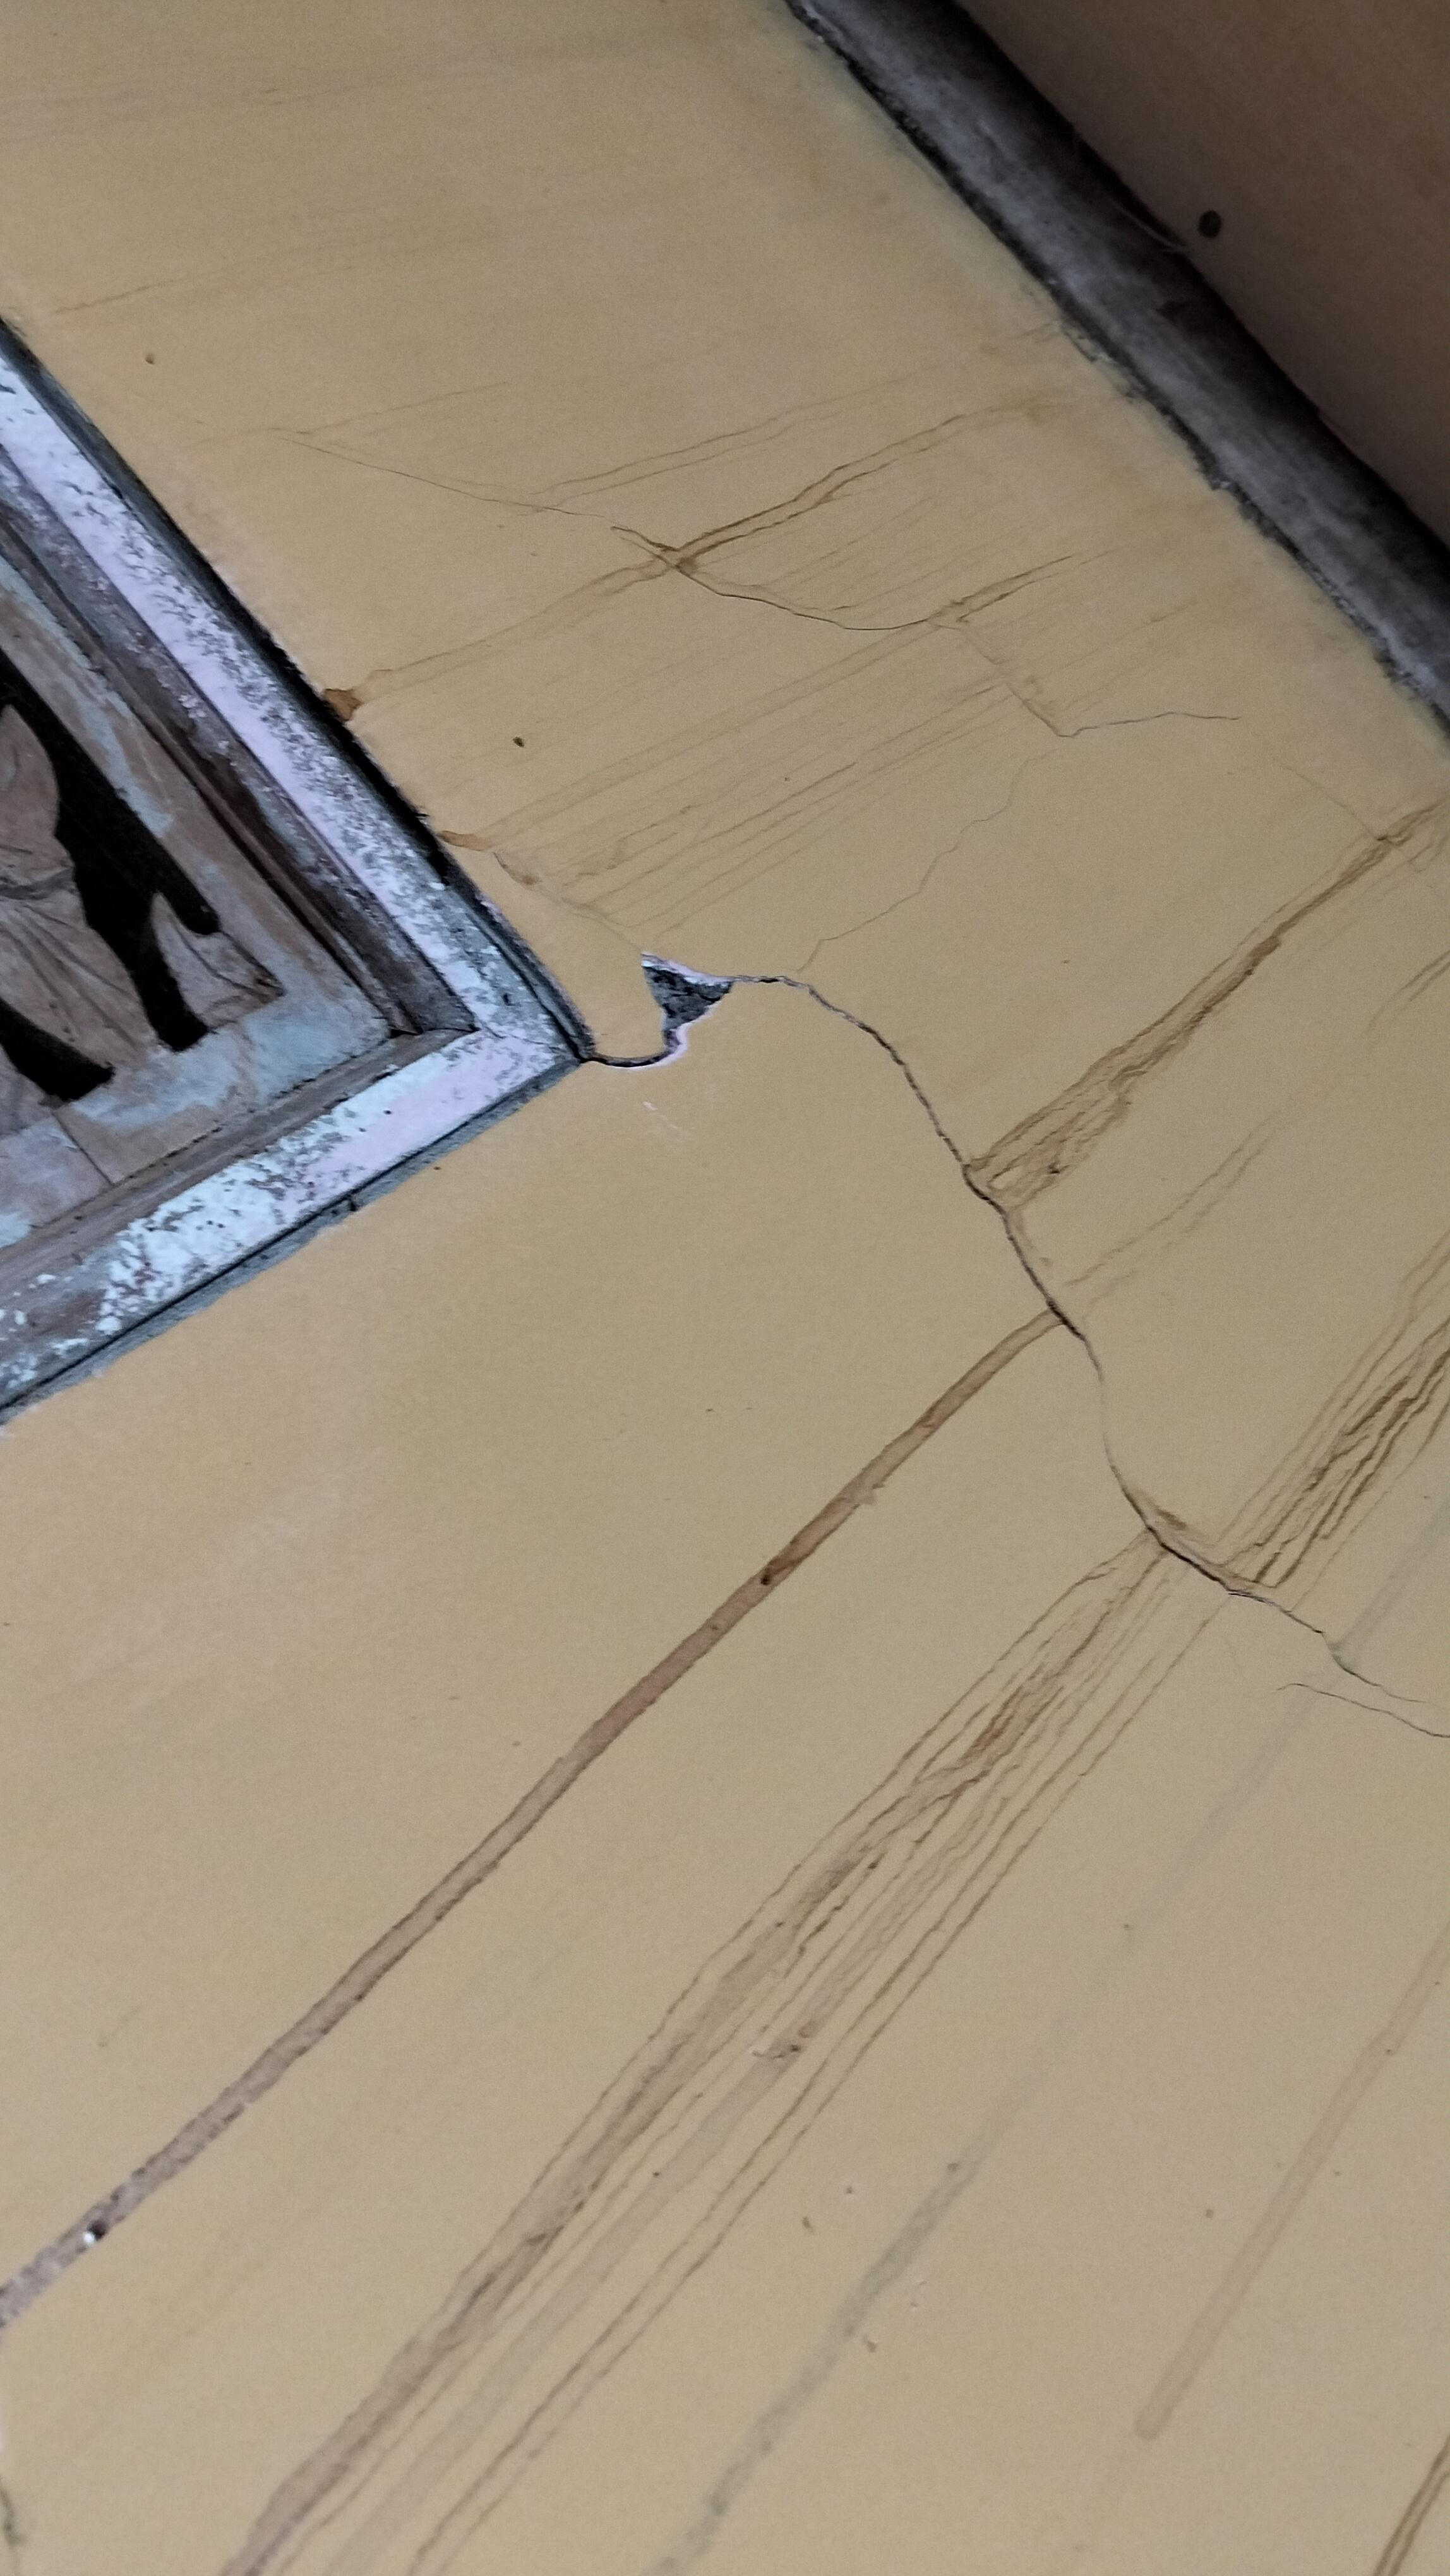Crack: (582, 920, 964, 1168), (952, 1157, 1165, 1553), (1139, 1509, 1430, 1719), (586, 511, 952, 641), (1022, 691, 1281, 756)
